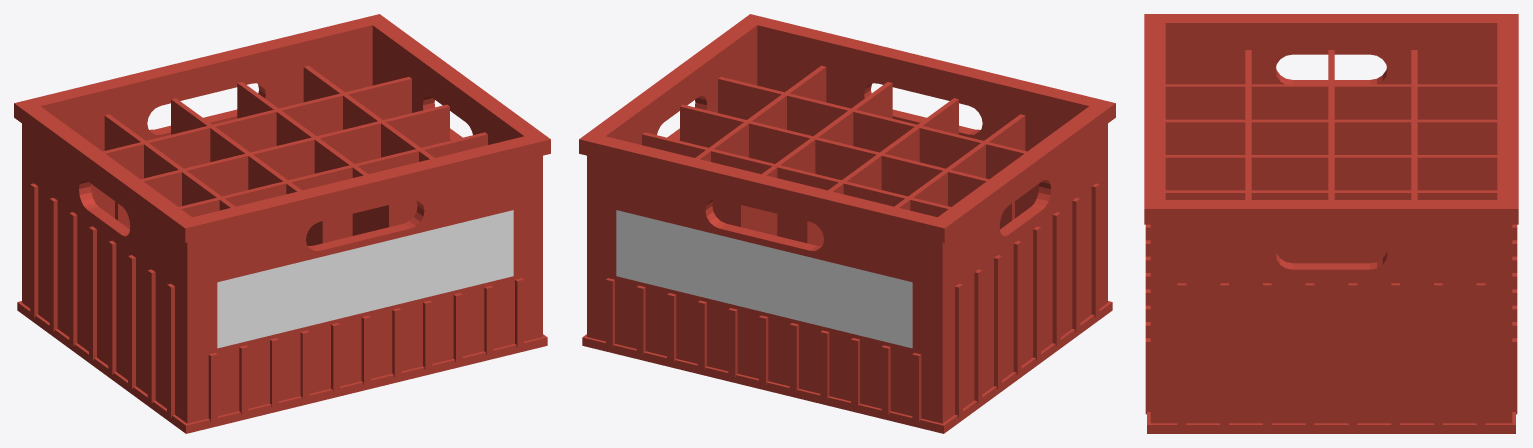
Rendered from bottlecrate.glb.
3 renders of one model, left to right at view 1: azimuth 30°, elevation 25°; view 2: azimuth 150°, elevation 25°; view 3: azimuth 270°, elevation 25°, orthographic. The views are drawn at different scales.
Visible parts, largest first — view 1: BottleCrateBody, BottleCrateLetters1; view 2: BottleCrateBody, BottleCrateLetters-1; view 3: BottleCrateBody.
Boxes of the visible parts, x1,y1,x2,y2 form: BottleCrateBody: [14, 14, 550, 433]; BottleCrateLetters1: [217, 210, 513, 348]; BottleCrateBody: [579, 14, 1115, 433]; BottleCrateLetters-1: [616, 210, 912, 348]; BottleCrateBody: [1144, 14, 1518, 433].
Bounding box in the file's own units: 0.37 × 0.2 × 0.3.
